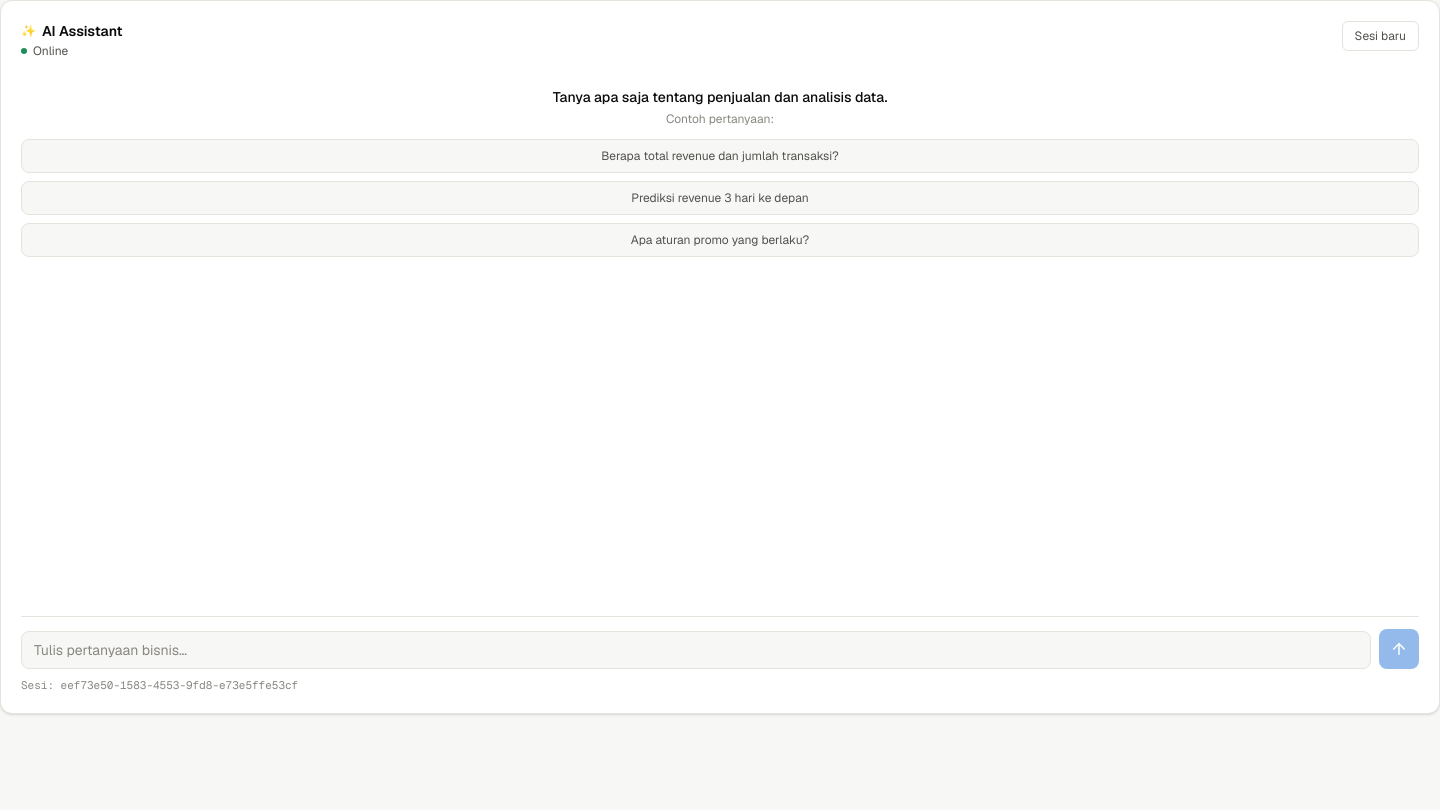
Test: AssistantSidebar › error jaringan ditampilkan inline tanpa mengosongkan thread
This screenshot has width=1440, height=810.
Step 1. Type "Halo" into the field named "Pertanyaan untuk AI assistant" → (696,650), box [21,630,1371,668]
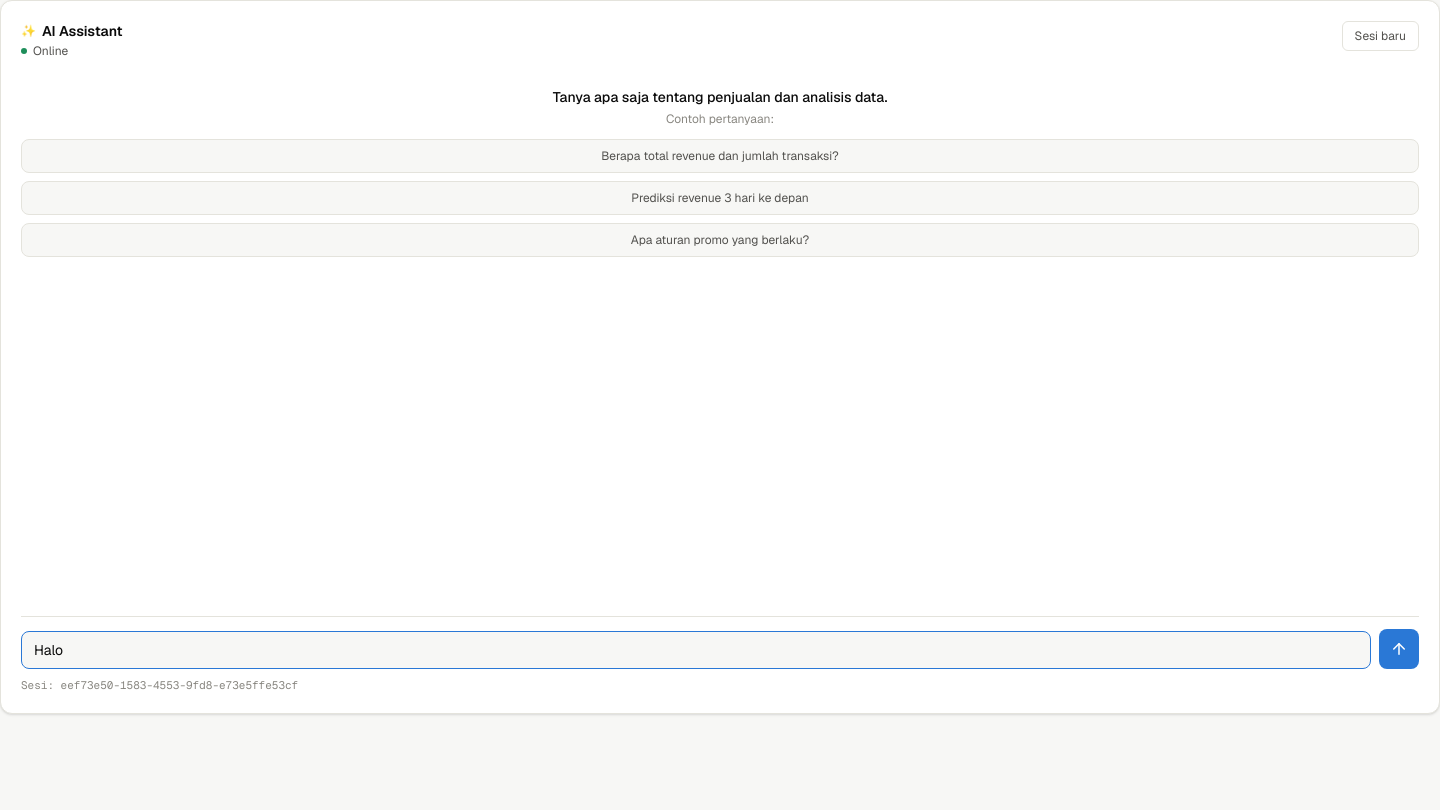
Step 2. Click the button named "Kirim" → (1399,648), box [1379,628,1419,668]
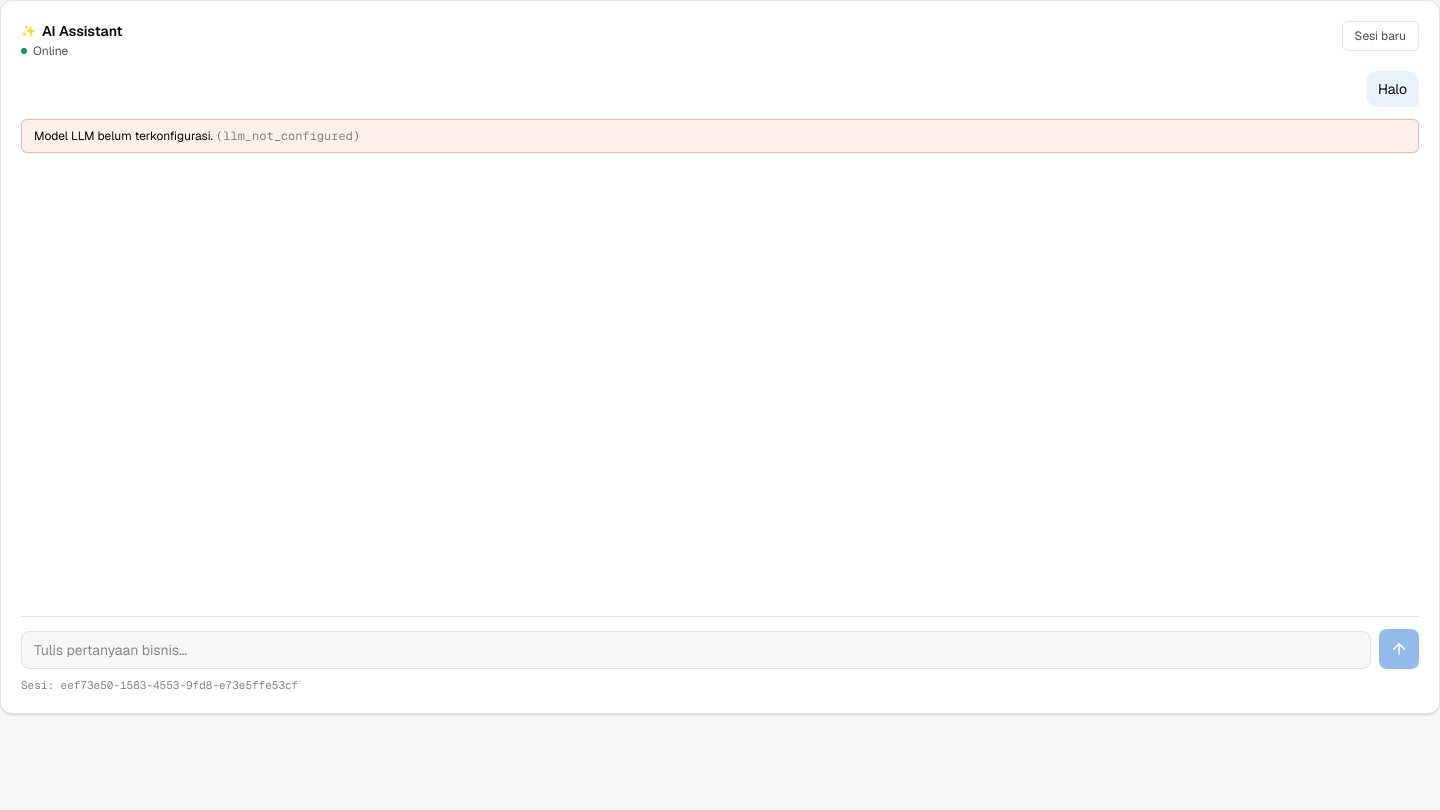
Result: the message shows "Model LLM belum terkonfigurasi." at [34,128,213,144]
Result: the text "Halo" is shown at [1378,79,1407,99]
